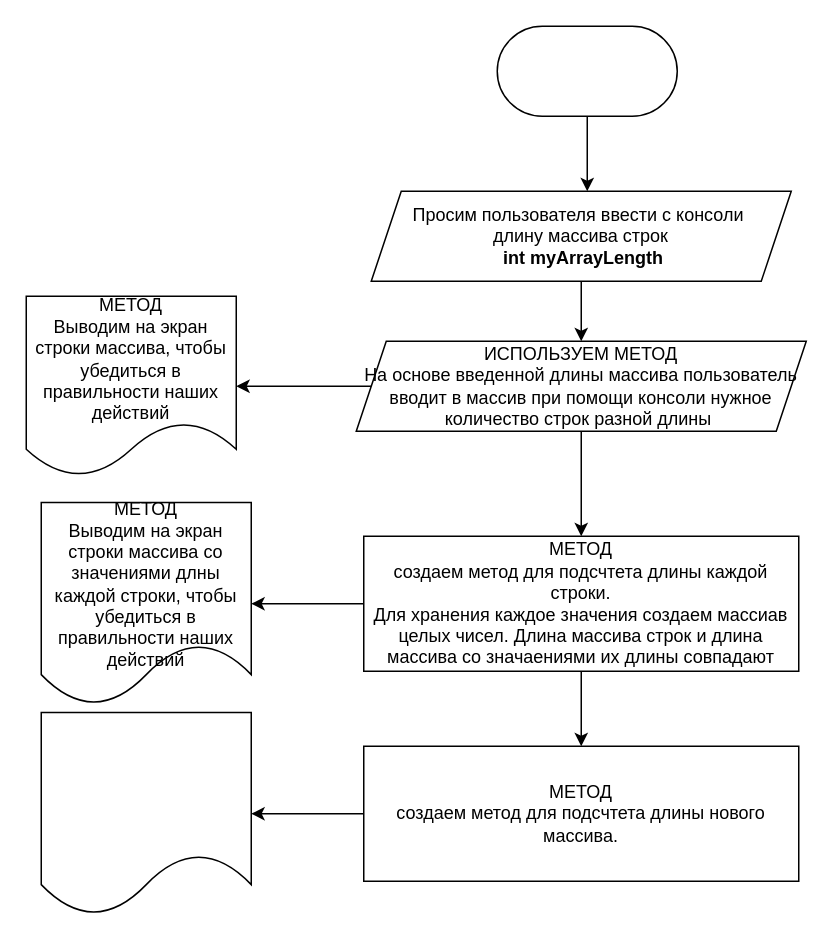
The diagram is 833 pixels wide and 942 high, and some of its shapes have lost their labels. Here are the shapes that lost their labels. From the top down, the box of each, then its label:
(496, 25, 677, 116): START
(40, 711, 251, 915): Выводим на экран длину массива, чтобы убедиться в правильности наших действий
